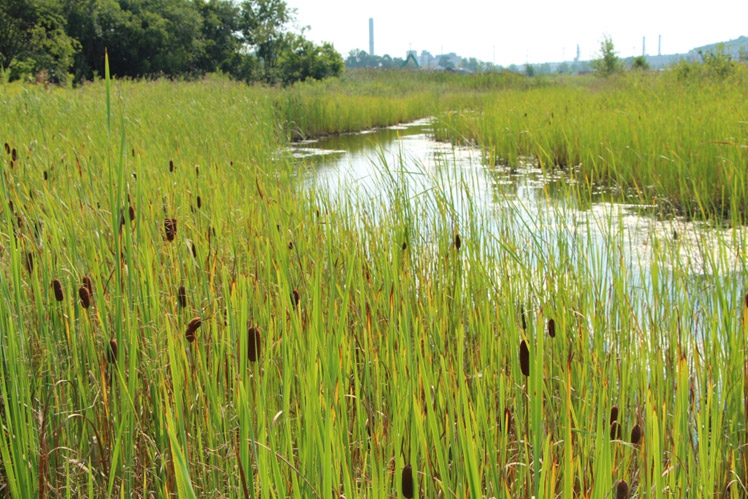cattails: (14, 158, 578, 499)
sky: (282, 1, 748, 62)
vegetation: (152, 231, 748, 496), (13, 6, 280, 499), (468, 67, 748, 187)
water: (282, 75, 748, 355)
